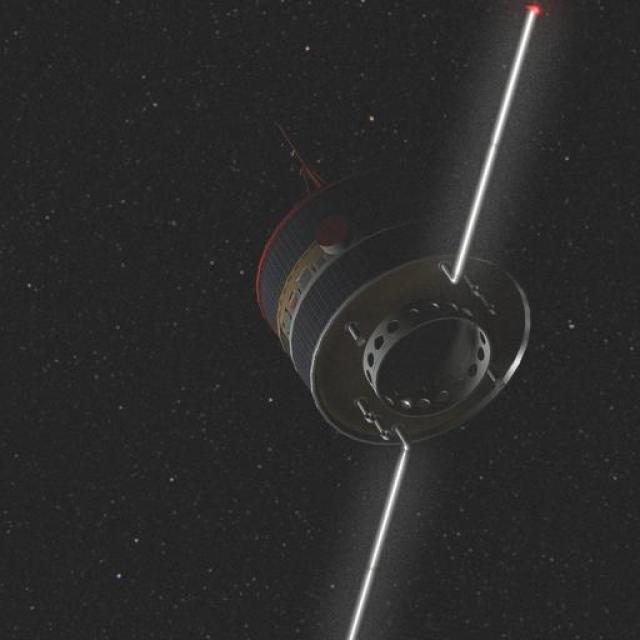double_start: (216, 118, 589, 497)
